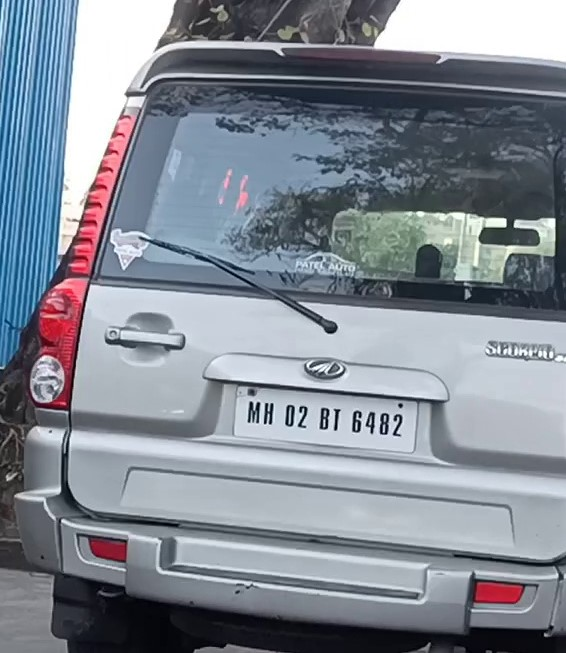MH02BT6482: (234, 385, 418, 454)
